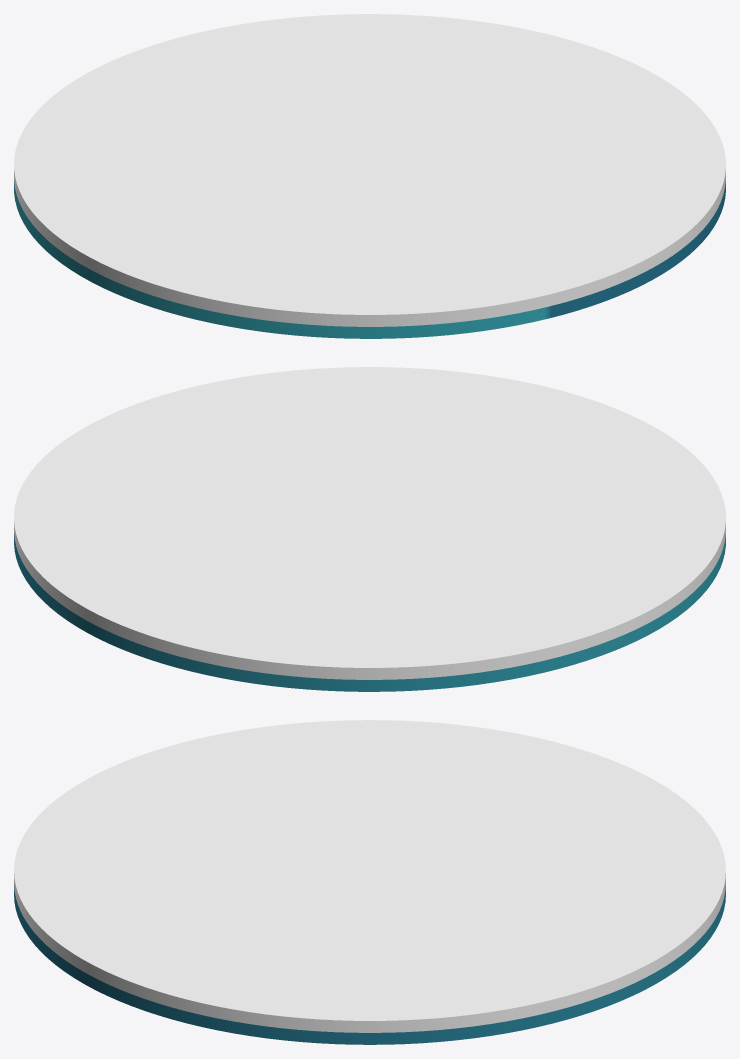
File: clock.dae
3 views of the same model, one above another, from view 1: azimuth 30°, elevation 25°; view 2: azimuth 150°, elevation 25°; view 3: azimuth 270°, elevation 25° (orthographic).
Visible parts, largest first — view 1: Clock2, Clock; view 2: Clock2, Clock; view 3: Clock2, Clock.
Part boxes in pixels (x1=…): Clock2: x1=14, y1=14, x2=725, y2=326; Clock: x1=14, y1=181, x2=725, y2=338; Clock2: x1=14, y1=367, x2=725, y2=679; Clock: x1=14, y1=534, x2=725, y2=691; Clock2: x1=14, y1=720, x2=725, y2=1032; Clock: x1=14, y1=885, x2=725, y2=1044.
Bounding box in the file's own units: 108 × 4 × 108.
